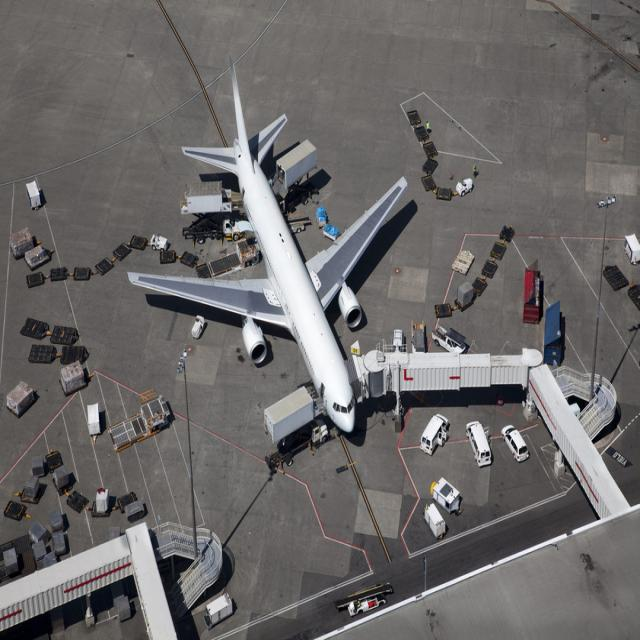plain: (117, 35, 420, 444)
